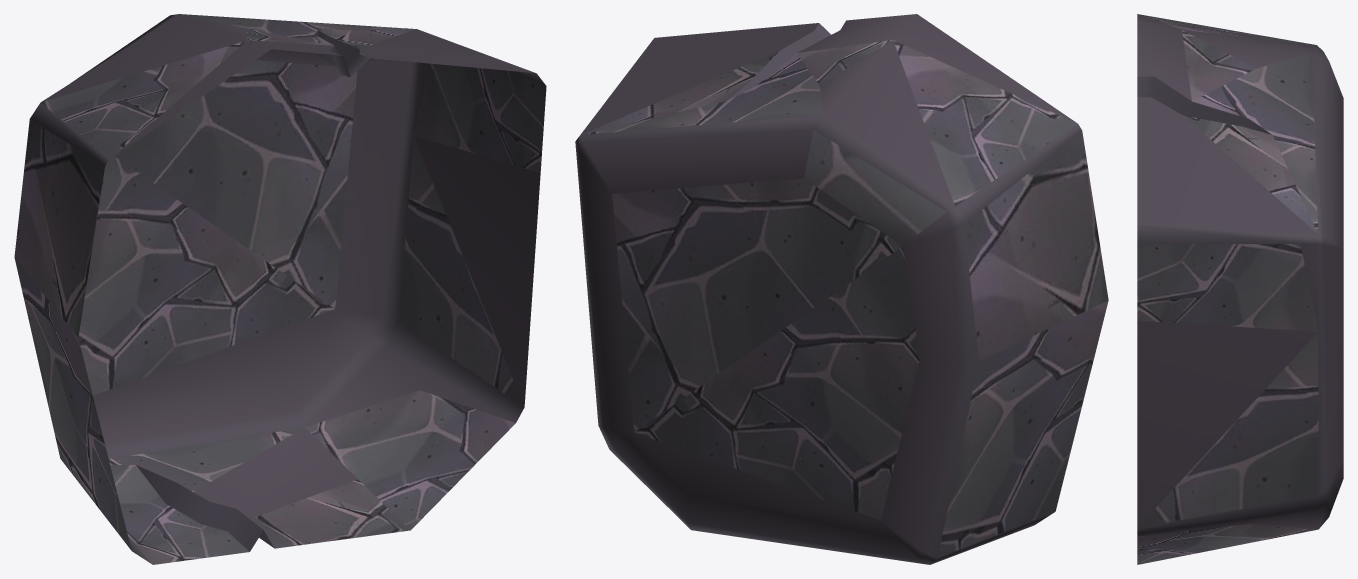
File: TallRock.fbx
3 renders of one model, left to right at view 1: azimuth 30°, elevation 25°; view 2: azimuth 150°, elevation 25°; view 3: azimuth 270°, elevation 25°, orthographic. The views are drawn at different scales.
Visible parts, largest first — view 1: RockTerrain3Tall; view 2: RockTerrain3Tall; view 3: RockTerrain3Tall.
Part boxes in pixels (x1,y1,x2,y2): RockTerrain3Tall: (14,14,546,564); RockTerrain3Tall: (575,14,1108,564); RockTerrain3Tall: (1137,14,1343,564).
Bounding box in the file's own units: 244 × 256 × 99.99.
